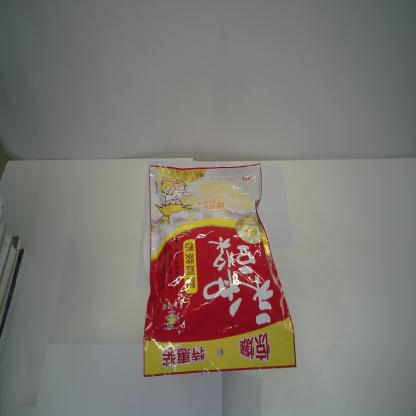Instant Drink: (142, 161, 298, 379)
